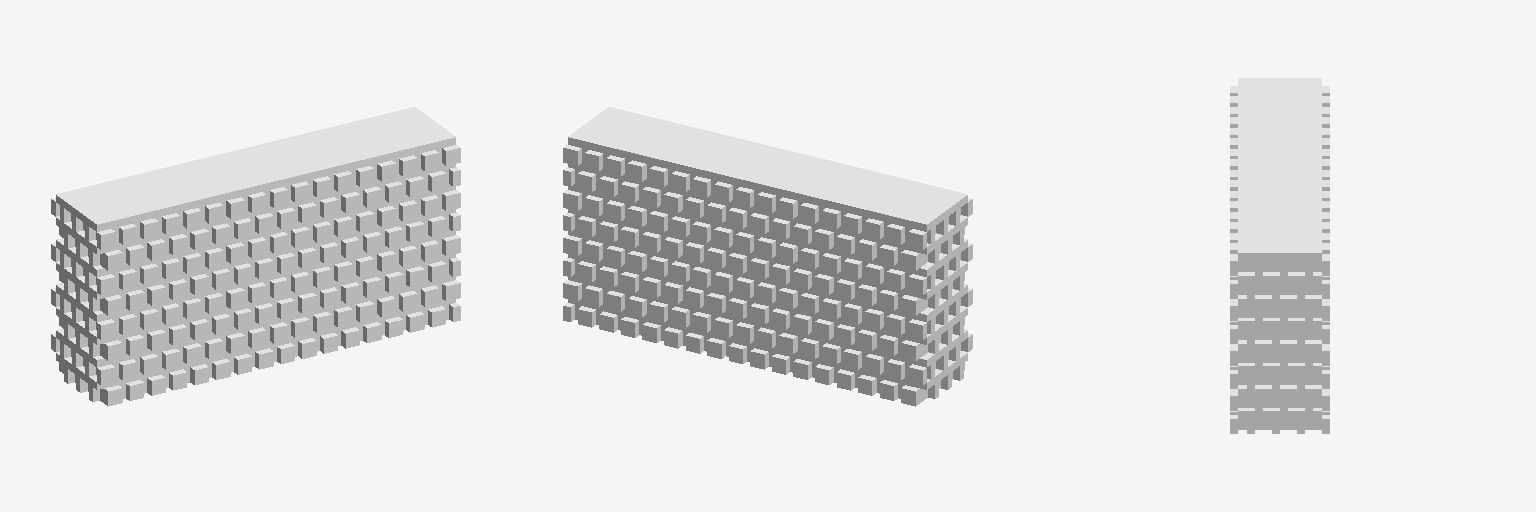
The model's file is up_wall_h24_sq_1.0.obj.
3 renders of one model, left to right at view 1: azimuth 30°, elevation 25°; view 2: azimuth 150°, elevation 25°; view 3: azimuth 270°, elevation 25°, orthographic.
Visible parts, largest first — view 1: object 1; view 2: object 1; view 3: object 1.
Boxes of the visible parts, x1=… form: object 1: x1=51, y1=107, x2=460, y2=406; object 1: x1=563, y1=107, x2=972, y2=406; object 1: x1=1230, y1=78, x2=1329, y2=433.
Bounding box in the file's own units: 5 × 2.4 × 1.2.